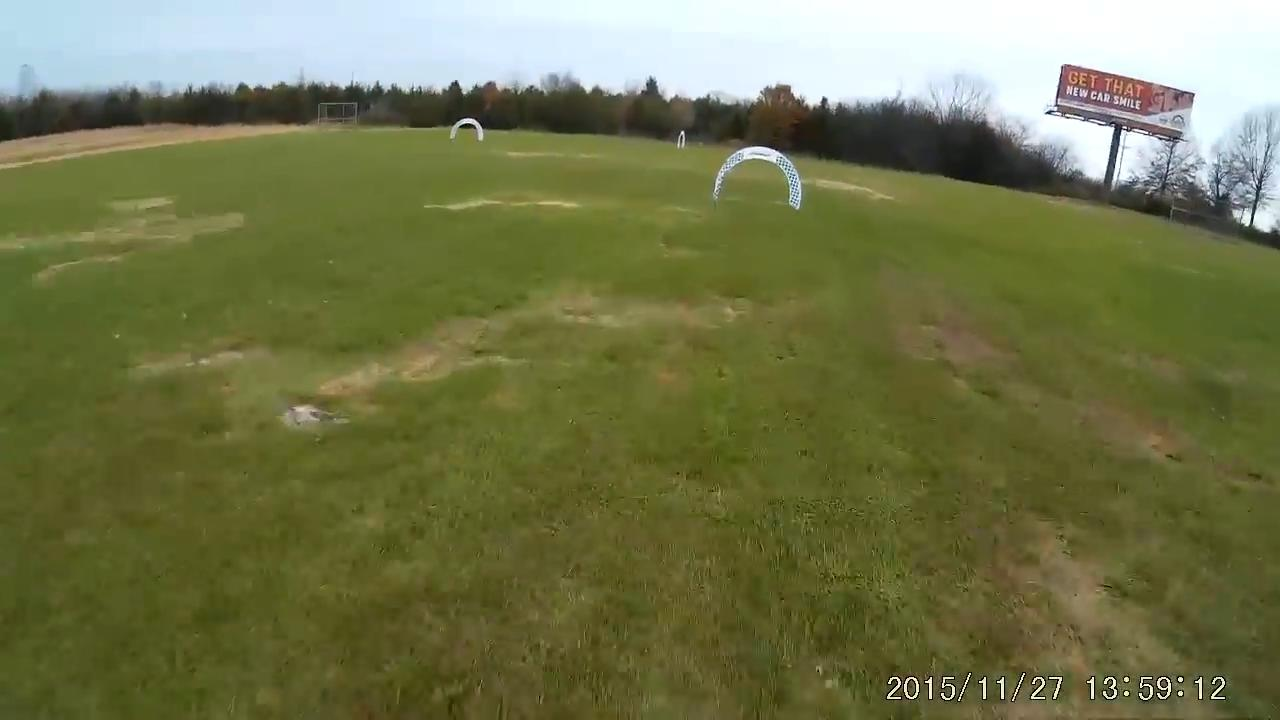gate: (711, 144, 803, 210)
